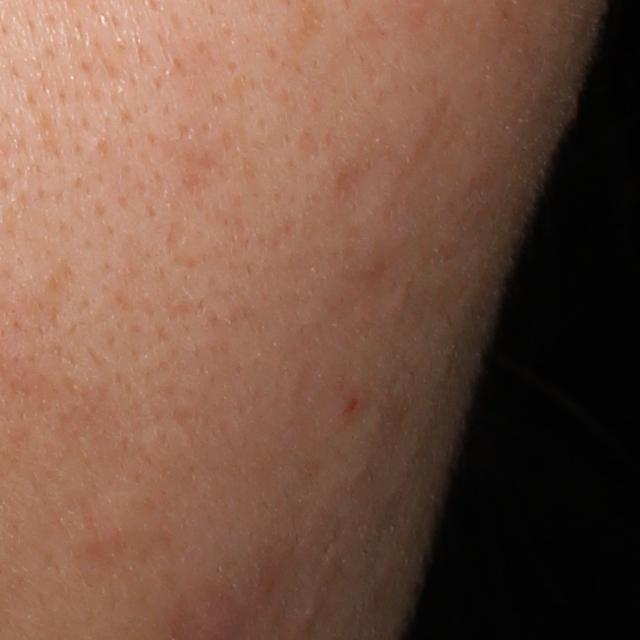comedo: (288, 595, 323, 634)
